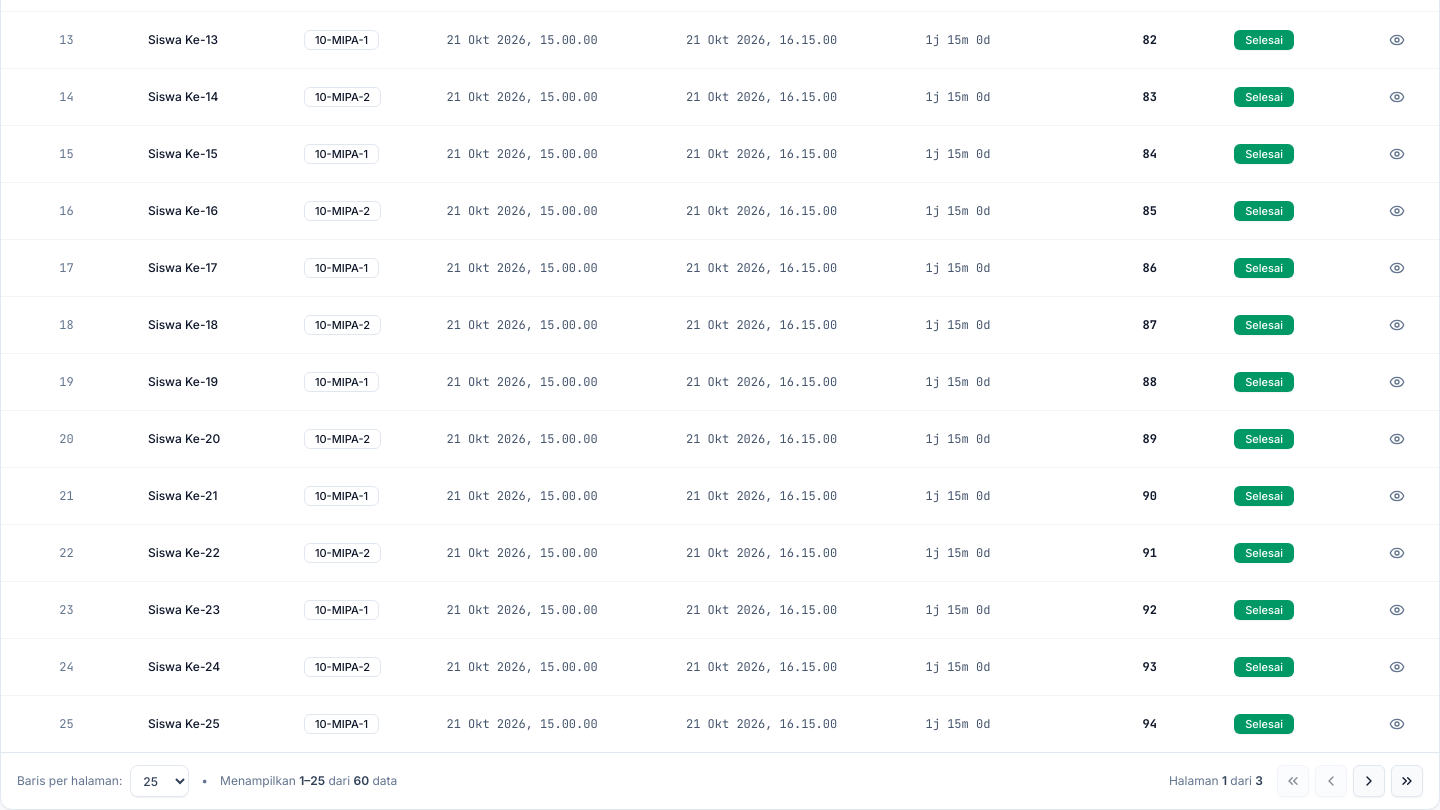
Test: Fitur Paginasi Tabel Admin (DataTablePagination) › Paginasi pada ExamReportView (/admin/ujian/[id]/laporan) › mengubah ukuran baris per halaman menjadi 50 dan memperbarui total halaman menjadi 2
The image size is (1440, 810).
(page scrolled)
Select "50" in the dropdown named "Pilih jumlah baris" at (160, 781), box [130, 765, 189, 797]
(page scrolled)
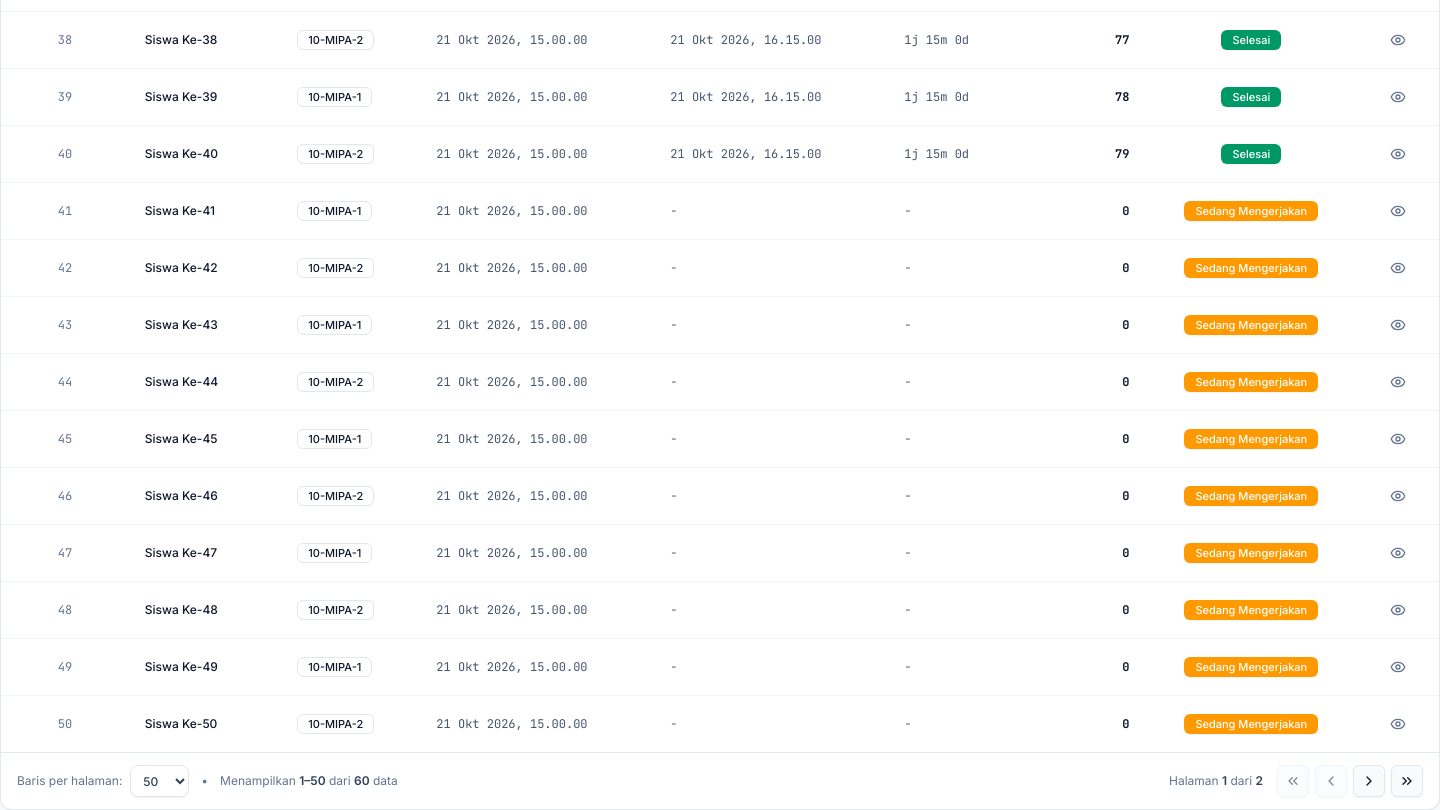
Result: the text "Siswa Ke-50" is shown at [129, 696, 281, 752]
Result: the element with test id "pagination-range-info" reads "Menampilkan 1–50 dari 60 data" at [220, 773, 398, 789]
Result: the element with test id "pagination-page-info" reads "Halaman 1 dari 2" at [1169, 773, 1263, 789]
